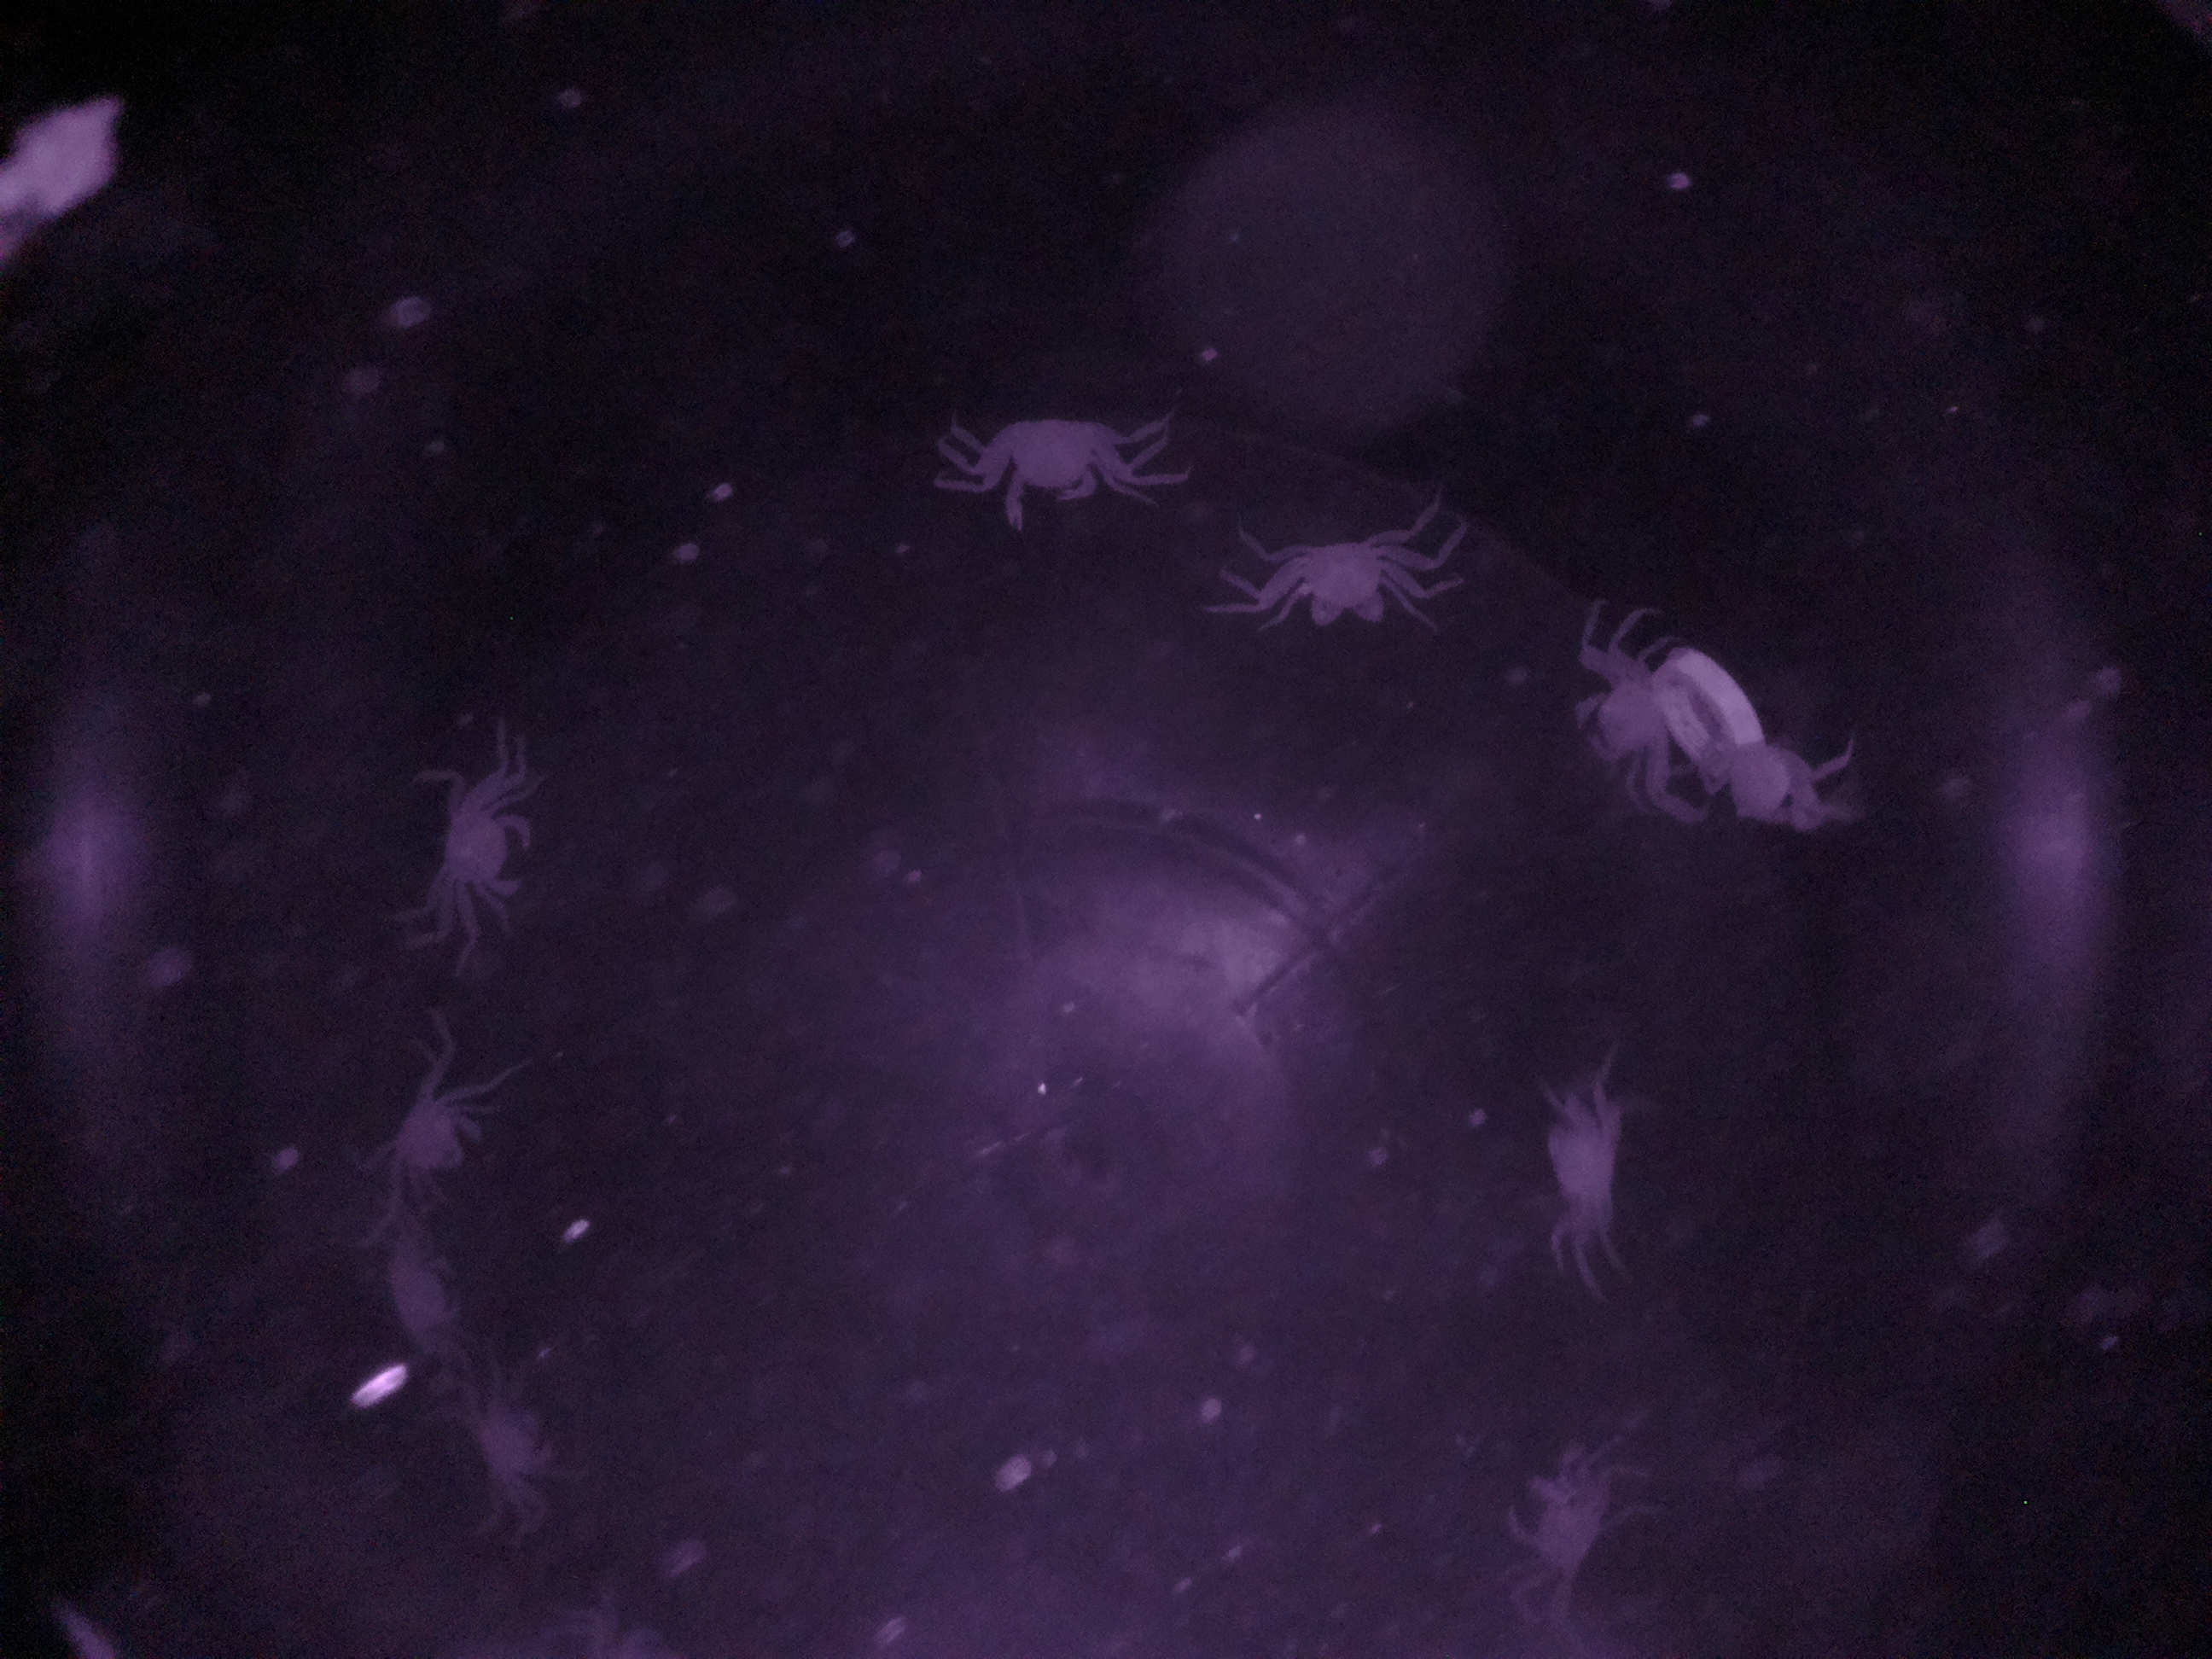Crab: (1501, 1068, 1649, 1263), (946, 394, 1148, 537), (1486, 1436, 1635, 1628), (1522, 641, 1698, 798), (1245, 516, 1423, 647), (418, 767, 547, 932)
